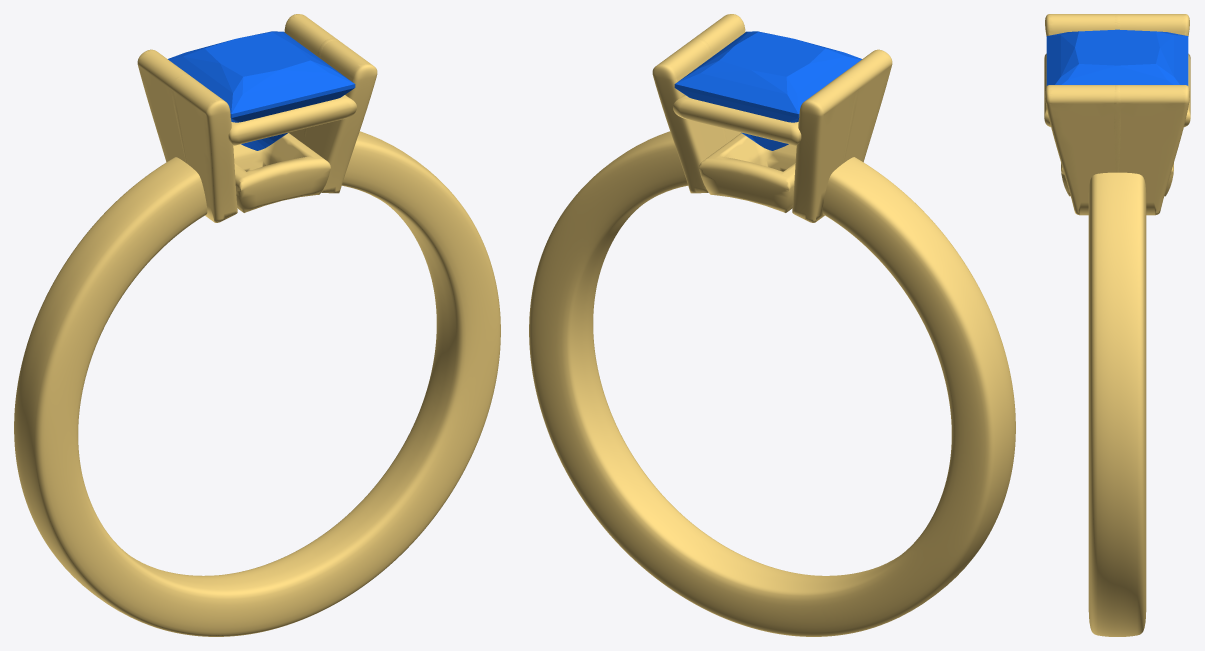
Rendered from bluesapphire-princess-yellowgold-halfmoonbezel-straightband-solitaire.glb.
The picture shows the model from 3 angles, left to right: view 1: azimuth 30°, elevation 25°; view 2: azimuth 150°, elevation 25°; view 3: azimuth 270°, elevation 25°; orthographic projection.
Visible parts, largest first — view 1: metal, stone; view 2: metal, stone; view 3: metal, stone.
Boxes of the visible parts, <box> form: metal: <box>14,14,500,636</box>; stone: <box>168,31,355,150</box>; metal: <box>529,14,1015,636</box>; stone: <box>674,31,861,150</box>; metal: <box>1044,14,1190,636</box>; stone: <box>1046,29,1188,85</box>.
Size of the model in its own units: 20.51 by 23.86 by 5.6.
